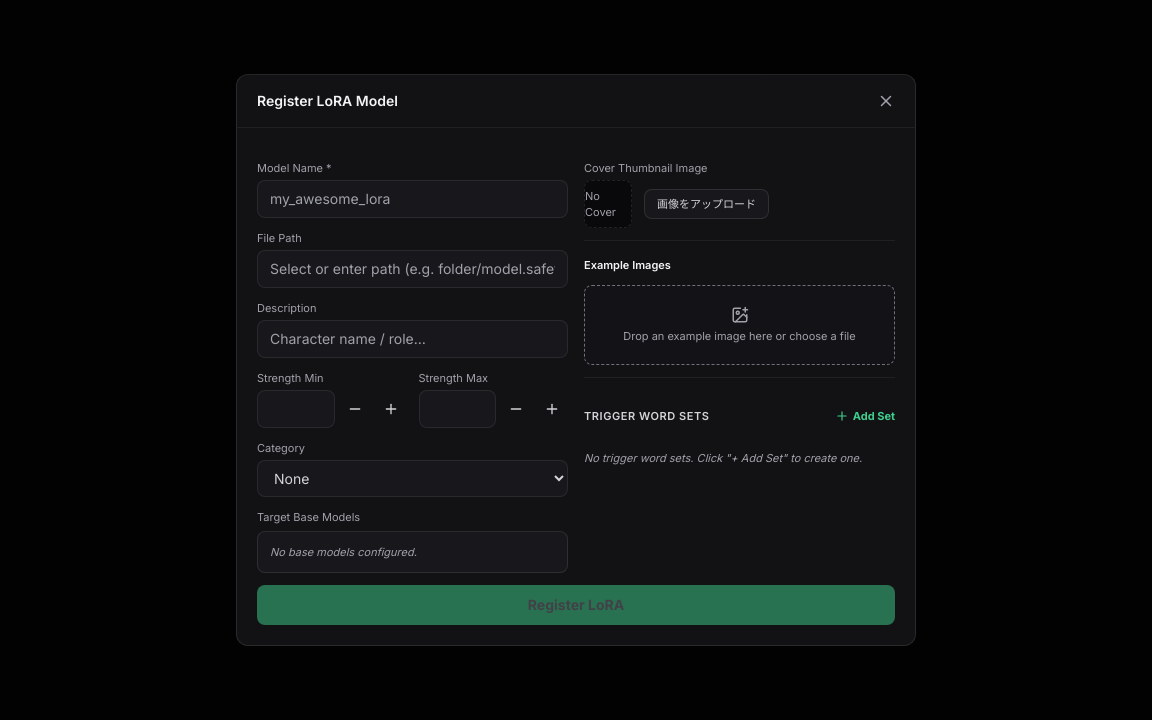
Test: LoraModals Component (LoraRegisterModal) › renders LoraRegisterModal and opens ComfyUI model suggestions on focus
Expected: the heading "Register LoRA Model" is shown, x1=257 y1=91 x2=398 y2=111
Expected: the field with placeholder "my_awesome_lora" is shown, x1=257 y1=180 x2=568 y2=218
Focus the field with placeholder "Select or enter path (e.g. folder/model.safetensors)" at [412, 269], box x1=257 y1=250 x2=568 y2=288
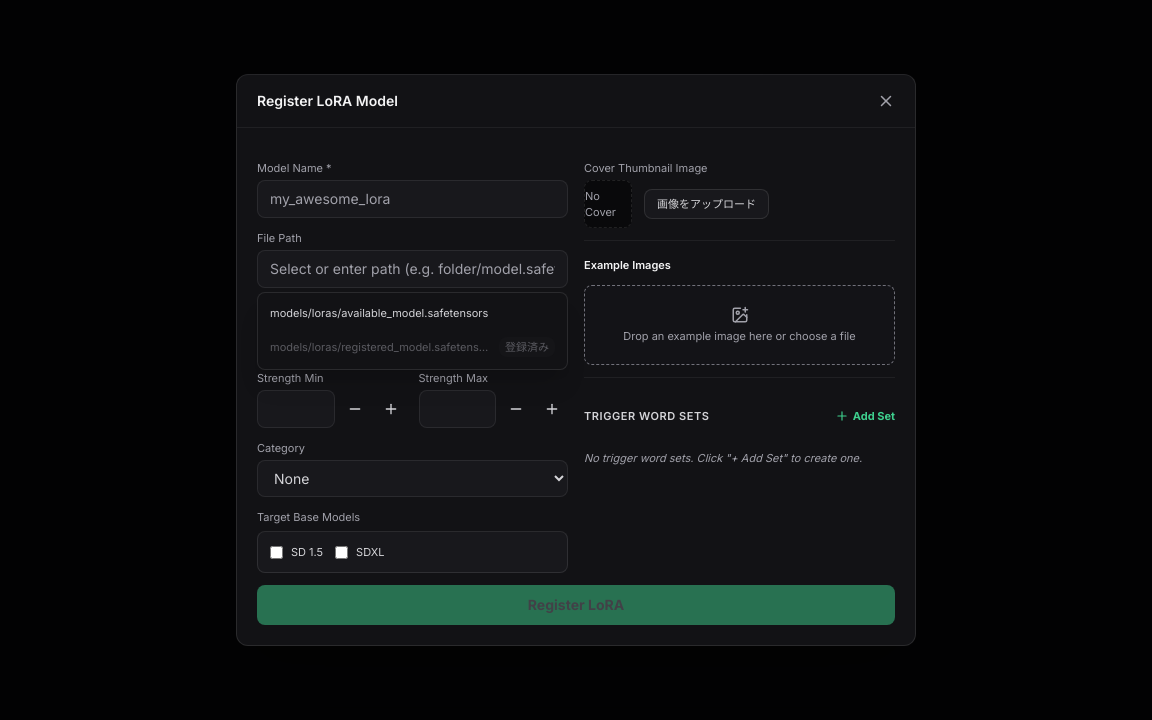
Expected: the text "models/loras/available_model.safetensors" is shown, x1=270 y1=305 x2=488 y2=321
Expected: the text "models/loras/registered_model.safetensors" is shown, x1=270 y1=339 x2=491 y2=355
Expected: the text "登録済み" is shown, x1=499 y1=337 x2=555 y2=357
